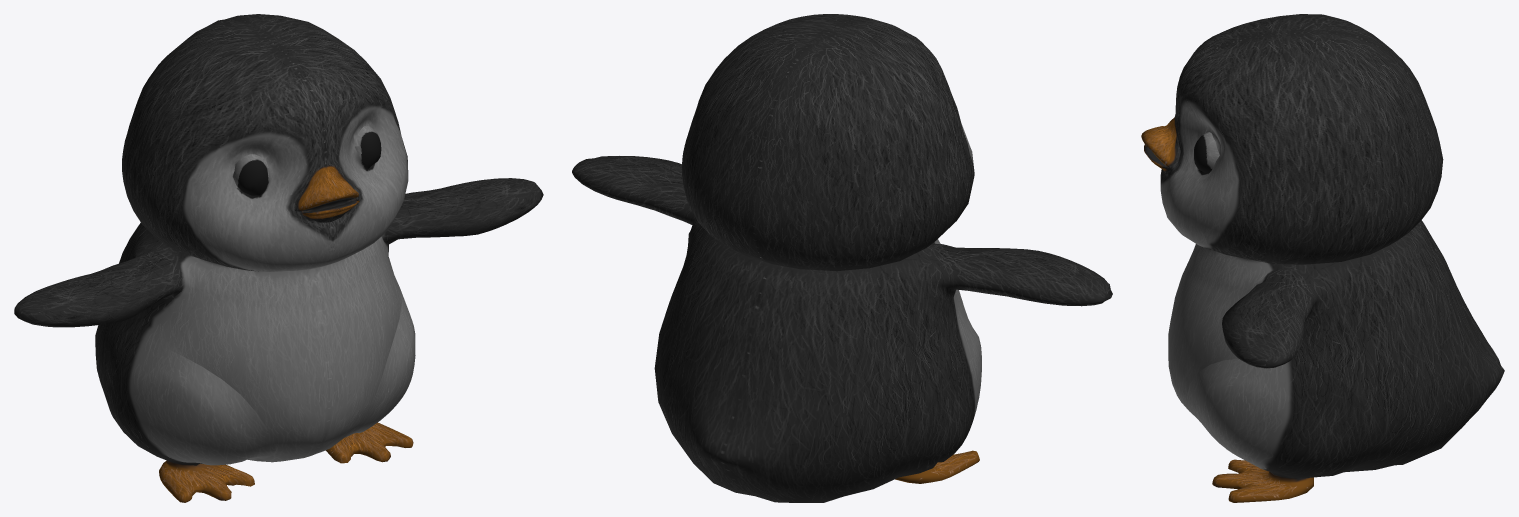
Rendered from Penguin_Lo_Textured.fbx.
The picture shows the model from 3 angles, left to right: view 1: azimuth 30°, elevation 25°; view 2: azimuth 150°, elevation 25°; view 3: azimuth 270°, elevation 25°; orthographic projection. The views are drawn at different scales.
Parts seen in each view (by area): view 1: Penguin_lo2; view 2: Penguin_lo2; view 3: Penguin_lo2.
Part boxes in pixels (bbox=[...]): Penguin_lo2: bbox=[14, 14, 543, 502]; Penguin_lo2: bbox=[572, 14, 1112, 502]; Penguin_lo2: bbox=[1141, 14, 1504, 502].
Bounding box in the file's own units: 38.46 × 29.26 × 23.2.
